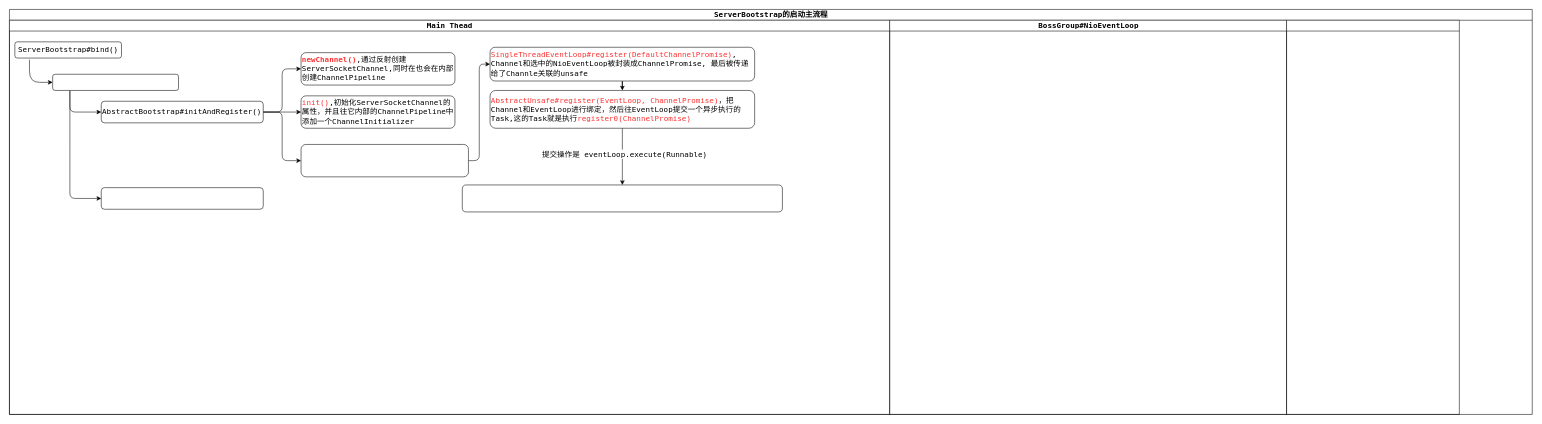
Image size: 1542x424. Some labels were removed from this diagram. Each missing label, with the centre of its shape:
"AbstractBootstrap#doBind()" goes at point 115,82.
"AbstractBootstrap#doBind0()" goes at point 182,198.
"config().group().register(channel) ,从BossGroup中选择一个NioEventLoop执行注册" goes at point 384,160.
"workGroup#NioEventLoop" goes at point 1372,217.
"这个执行操作会调用NioEventLoop的父类 SingleThreadEventLoop#execute(task) 方法，" goes at point 622,198.
